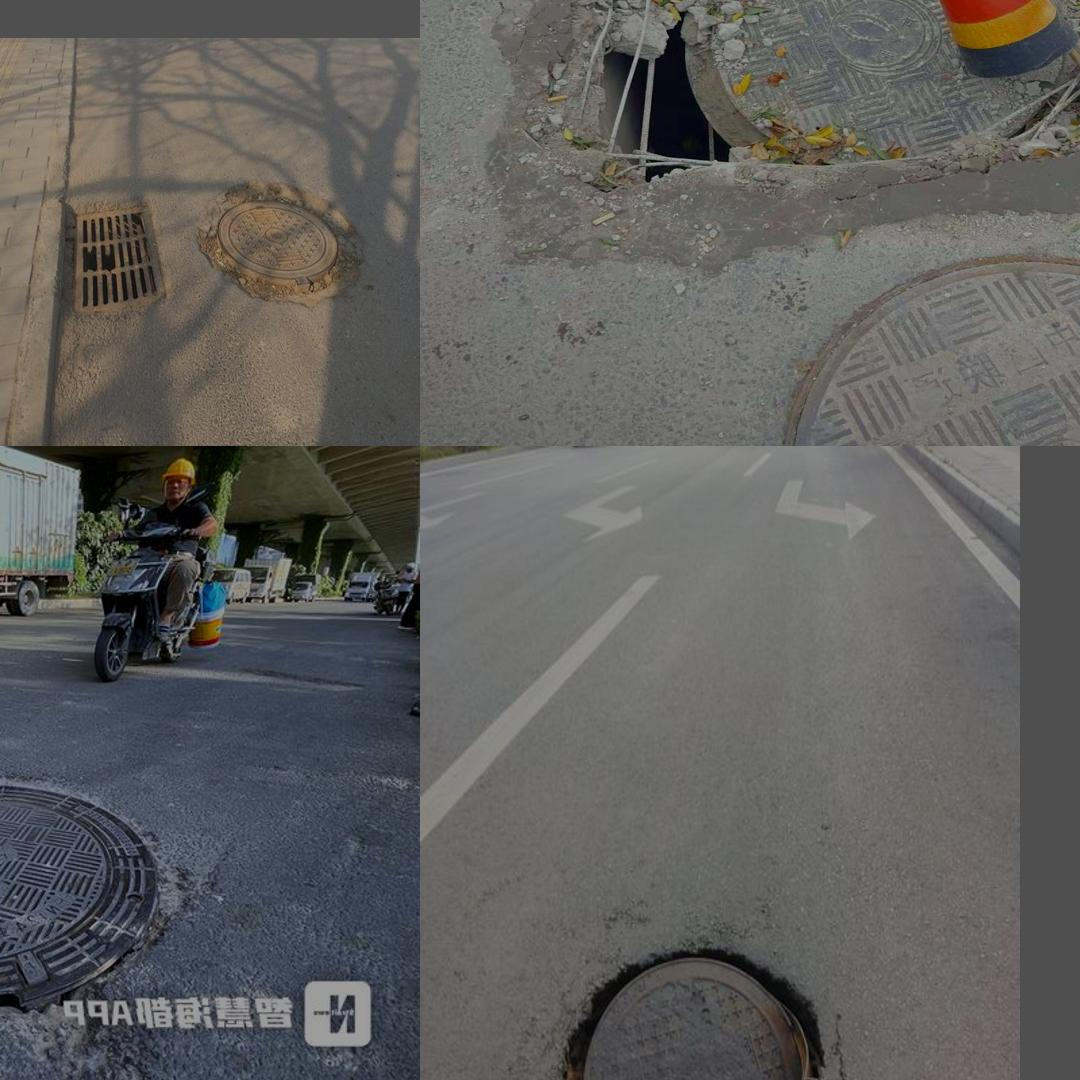circle: (591, 0, 1080, 167), (0, 746, 229, 1038), (531, 925, 867, 1080), (191, 170, 364, 312)
